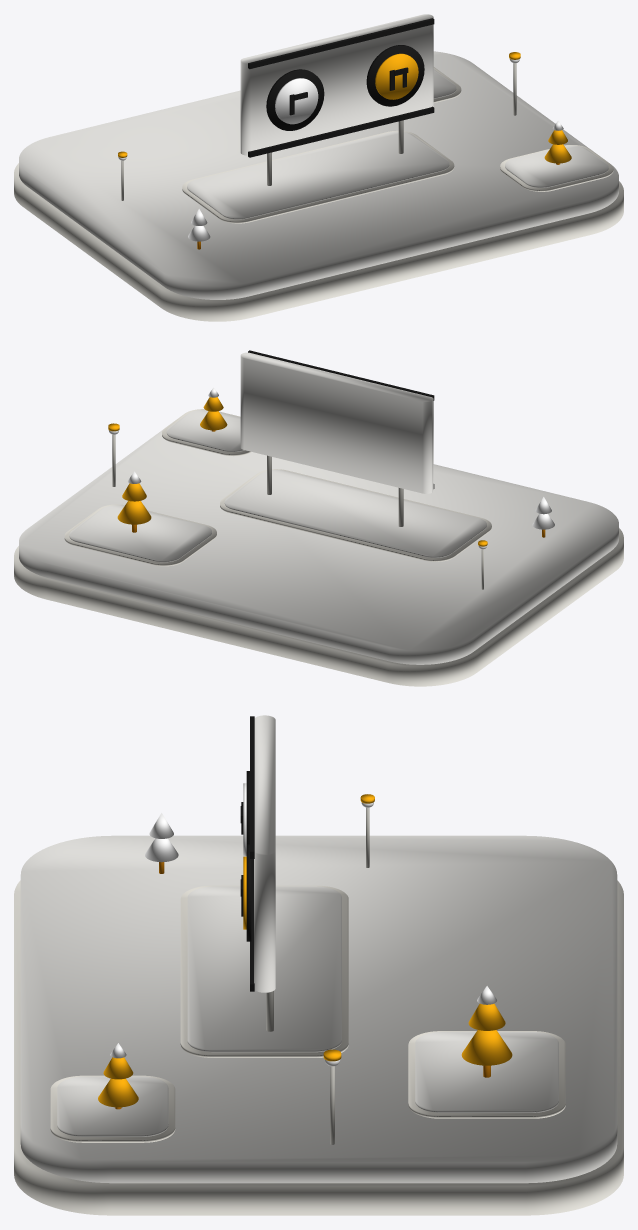
The model's file is zona_generica.glb.
The picture shows the model from 3 angles, top to bottom: view 1: azimuth 30°, elevation 25°; view 2: azimuth 150°, elevation 25°; view 3: azimuth 270°, elevation 25°; orthographic projection. The views are drawn at different scales.
Visible parts, largest first — view 1: generic platform top, generic platform side, generic white sign board, generic inner white paving cover.002, generic inner white paving cover.001, generic subtle paving island line.002, generic icon inner disk, generic icon inner disk.001, generic black sign trim top, generic icon outer disk.001, generic icon outer disk, generic black sign trim bottom (+2 smaller); view 2: generic platform top, generic white sign board, generic platform side, generic inner white paving cover.002, generic inner white paving cover, generic inner white paving cover.001, generic subtle paving island line.002, generic subtle paving island line, tree lower crown, generic black sign trim top, generic subtle paving island line.001; view 3: generic platform top, generic platform side, generic inner white paving cover.002, generic inner white paving cover, generic white sign board, generic inner white paving cover.001, generic subtle paving island line.002, generic subtle paving island line, generic subtle paving island line.001, tree lower crown, tree lower crown.001, tree upper crown (+1 smaller).
Boxes of the visible parts, x1,y1,x2,y2 form: generic platform top: (19,51,618,299); generic platform side: (14,163,623,321); generic white sign board: (240,14,433,155); generic inner white paving cover.002: (187,131,449,219); generic inner white paving cover.001: (505,145,608,187); generic subtle paving island line.002: (182,130,454,223); generic icon inner disk: (275,78,318,124); generic icon inner disk.001: (375,53,418,99); generic black sign trim top: (248,18,434,69); generic icon outer disk.001: (366,45,424,106); generic icon outer disk: (266,69,324,130); generic black sign trim bottom: (248,106,434,157); generic platform top: (19,430,618,664); generic white sign board: (240,352,433,493); generic platform side: (14,528,623,686); generic inner white paving cover.002: (224,470,486,557); generic inner white paving cover: (69,505,211,562); generic inner white paving cover.001: (166,409,244,451); generic subtle paving island line.002: (220,469,491,561); generic subtle paving island line: (64,504,216,566); tree lower crown: (117,501,151,524); generic black sign trim top: (248,350,434,400); generic subtle paving island line.001: (162,409,251,456); generic platform top: (20,835,617,1183); generic platform side: (14,880,623,1215); generic inner white paving cover.002: (187,886,341,1052); generic inner white paving cover: (415,1032,558,1112); generic white sign board: (254,715,275,992); generic inner white paving cover.001: (57,1076,168,1136); generic subtle paving island line.002: (180,885,348,1057); generic subtle paving island line: (408,1031,565,1118); generic subtle paving island line.001: (50,1075,175,1142); tree lower crown: (461,1030,512,1065); tree lower crown.001: (98,1078,138,1107); tree upper crown: (468,1003,505,1030).
Size of the model in its own units: 2.9 by 1.11 by 2.25.
